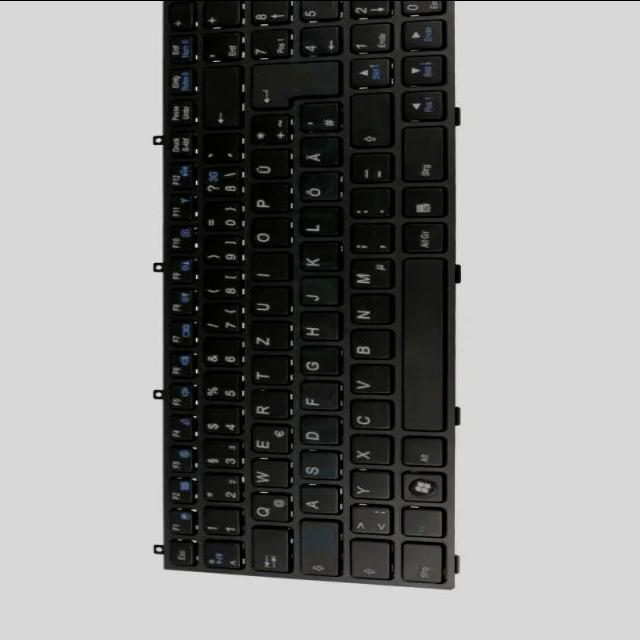0: (197, 204, 239, 234)
1: (198, 509, 238, 539)
2: (198, 475, 238, 505)
3: (198, 442, 238, 472)
4: (198, 408, 238, 438)
5: (198, 374, 238, 404)
6: (198, 340, 238, 370)
7: (197, 306, 239, 336)
8: (196, 272, 239, 302)
9: (197, 238, 239, 268)
a: (293, 488, 336, 518)
accent: (198, 135, 238, 165)
ae: (294, 139, 337, 170)
alt-left: (396, 438, 442, 470)
altgr-right: (396, 224, 442, 256)
b: (344, 331, 388, 363)
c: (344, 402, 388, 433)
caret: (198, 543, 238, 571)
comma: (345, 225, 389, 256)
d: (294, 418, 337, 448)
del: (198, 69, 238, 131)
e: (245, 426, 287, 456)
enter: (244, 65, 337, 113)
f: (294, 383, 337, 413)
g: (294, 349, 336, 379)
h: (294, 314, 337, 344)
hash: (294, 105, 337, 135)
i: (245, 255, 287, 285)
j: (293, 280, 337, 310)
k: (294, 244, 337, 274)
keyboard: (153, 0, 457, 596)
l: (294, 210, 337, 240)
less: (344, 508, 388, 538)
m: (344, 261, 390, 293)
minus: (344, 155, 390, 187)
n: (344, 296, 388, 328)
o: (245, 220, 287, 250)
oe: (294, 174, 337, 205)
p: (245, 186, 287, 216)
plus: (244, 118, 287, 148)
point: (345, 190, 389, 221)
q: (245, 495, 287, 525)
r: (245, 392, 287, 422)
s: (294, 453, 336, 483)
shift-left: (344, 543, 388, 583)
shift-lock: (293, 522, 336, 578)
shift-right: (344, 95, 388, 151)
space: (397, 259, 443, 434)
ss: (200, 169, 238, 199)
strg-left: (395, 544, 441, 587)
strg-right: (396, 128, 442, 186)
t: (245, 358, 287, 388)
tab: (245, 530, 285, 575)
u: (245, 289, 287, 319)
ue: (245, 152, 287, 182)
v: (344, 366, 388, 397)
w: (244, 461, 287, 491)
x: (344, 438, 388, 468)
y: (344, 473, 388, 503)
z: (245, 324, 287, 354)
